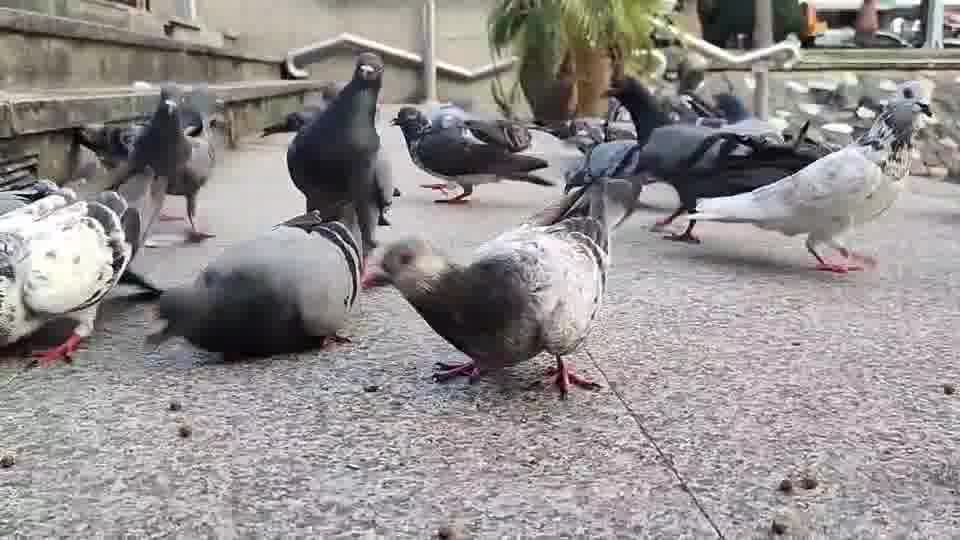Pigeon: (360, 191, 612, 400), (144, 212, 363, 363), (664, 141, 906, 273), (258, 50, 391, 262), (0, 182, 139, 366), (75, 88, 217, 248), (388, 102, 554, 203)
